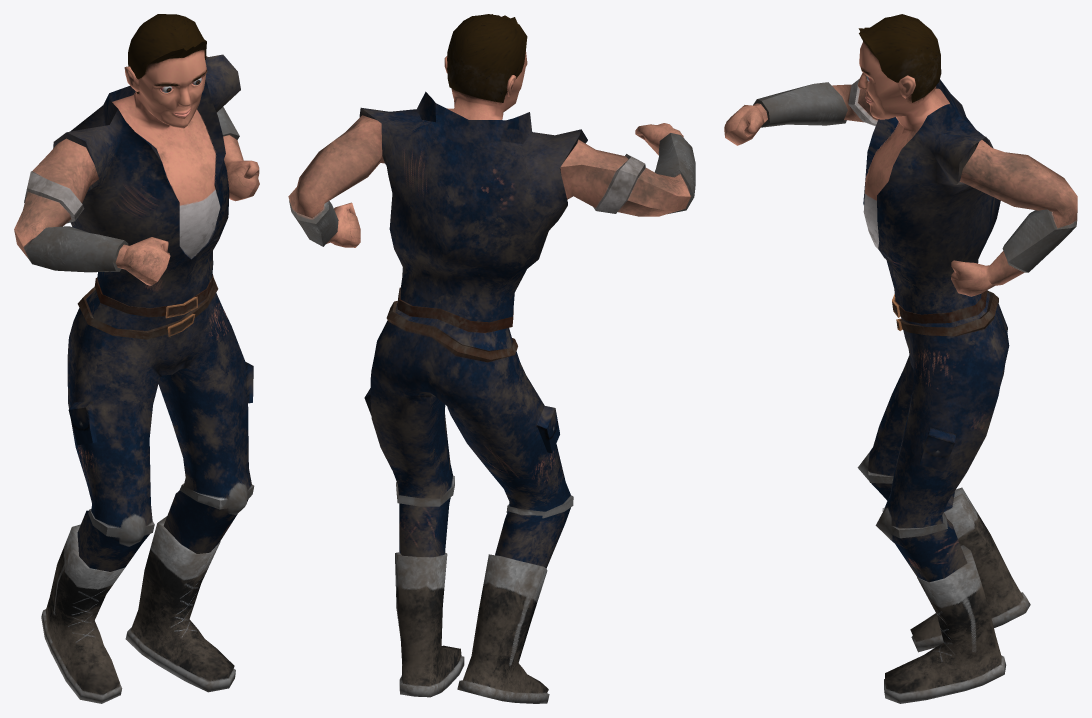
The model's file is Anim_ataque_d1_jugador.0029.obj.
The picture shows the model from 3 angles, left to right: view 1: azimuth 30°, elevation 25°; view 2: azimuth 150°, elevation 25°; view 3: azimuth 270°, elevation 25°; orthographic projection. The views are drawn at different scales.
Parts seen in each view (by area): view 1: polySurface1; view 2: polySurface1; view 3: polySurface1.
Part boxes in pixels (<box>): polySurface1: <box>14,14,259,703</box>; polySurface1: <box>288,14,695,703</box>; polySurface1: <box>724,14,1077,703</box>.
Size of the model in its own units: 4.4 by 9.36 by 4.58.
